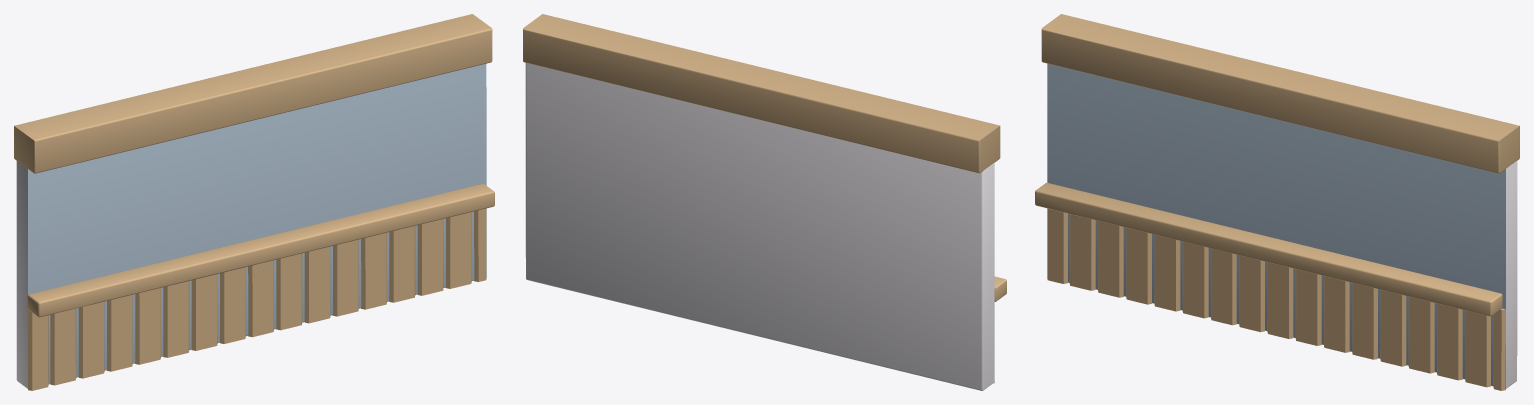
Rendered from wall1.fbx.
The picture shows the model from 3 angles, left to right: view 1: azimuth 30°, elevation 25°; view 2: azimuth 150°, elevation 25°; view 3: azimuth 330°, elevation 25°; orthographic projection.
Visible parts, largest first — view 1: Cube.162, Cube.166, Cube.163, Cube.165; view 2: Cube.162, Cube.163; view 3: Cube.162, Cube.166, Cube.163, Cube.165.
Part boxes in pixels (box(x1,y1,x2,y2)): Cube.162: box(16, 64, 486, 388); Cube.166: box(28, 208, 486, 390); Cube.163: box(14, 14, 492, 173); Cube.165: box(27, 183, 494, 317); Cube.162: box(525, 63, 994, 390); Cube.163: box(523, 14, 1000, 173); Cube.162: box(1047, 63, 1517, 388); Cube.166: box(1047, 208, 1505, 390); Cube.163: box(1041, 14, 1519, 173); Cube.165: box(1035, 182, 1502, 316).
Bounding box in the file's own units: 1731 × 914 × 174.
